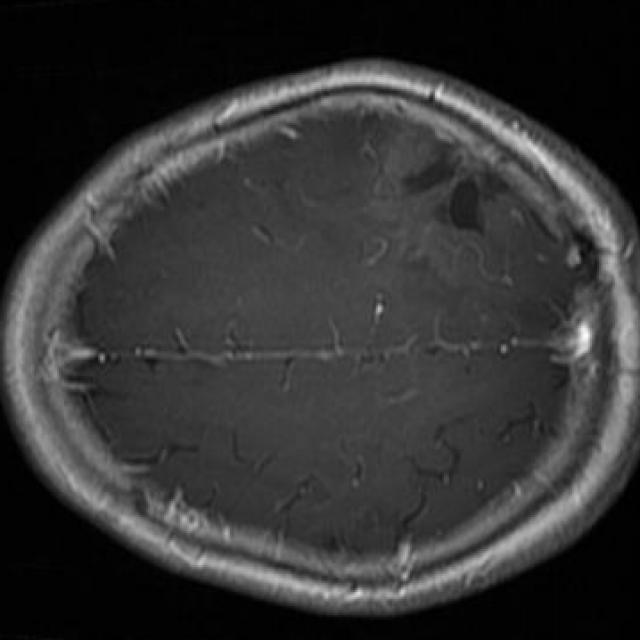glioma: (376, 118, 549, 276)
